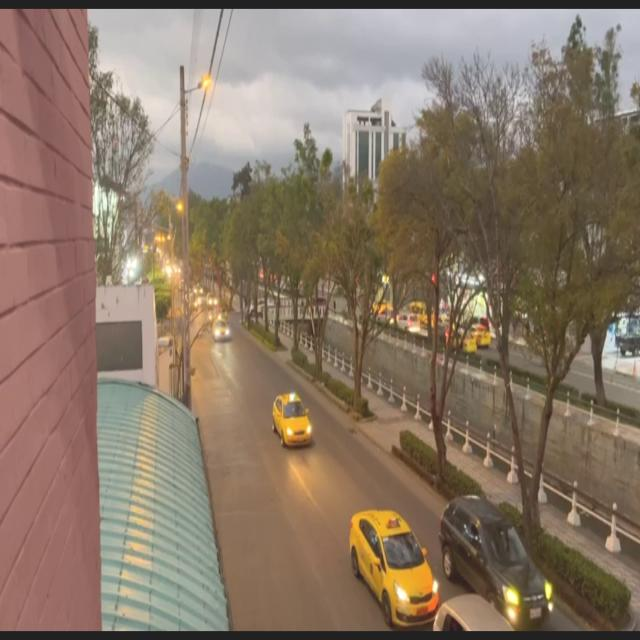SED: (350, 514, 435, 626), (274, 396, 310, 446), (213, 319, 229, 341)
SUV: (437, 492, 544, 617)
